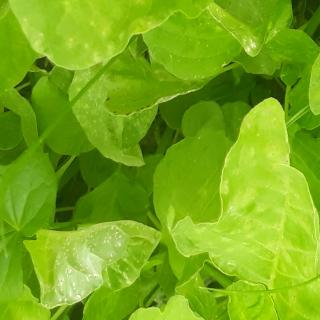karat_putih: (176, 100, 320, 294), (10, 0, 285, 74), (25, 217, 166, 312), (68, 72, 159, 173), (311, 2, 320, 132)
virus_keriting: (301, 268, 320, 320)
